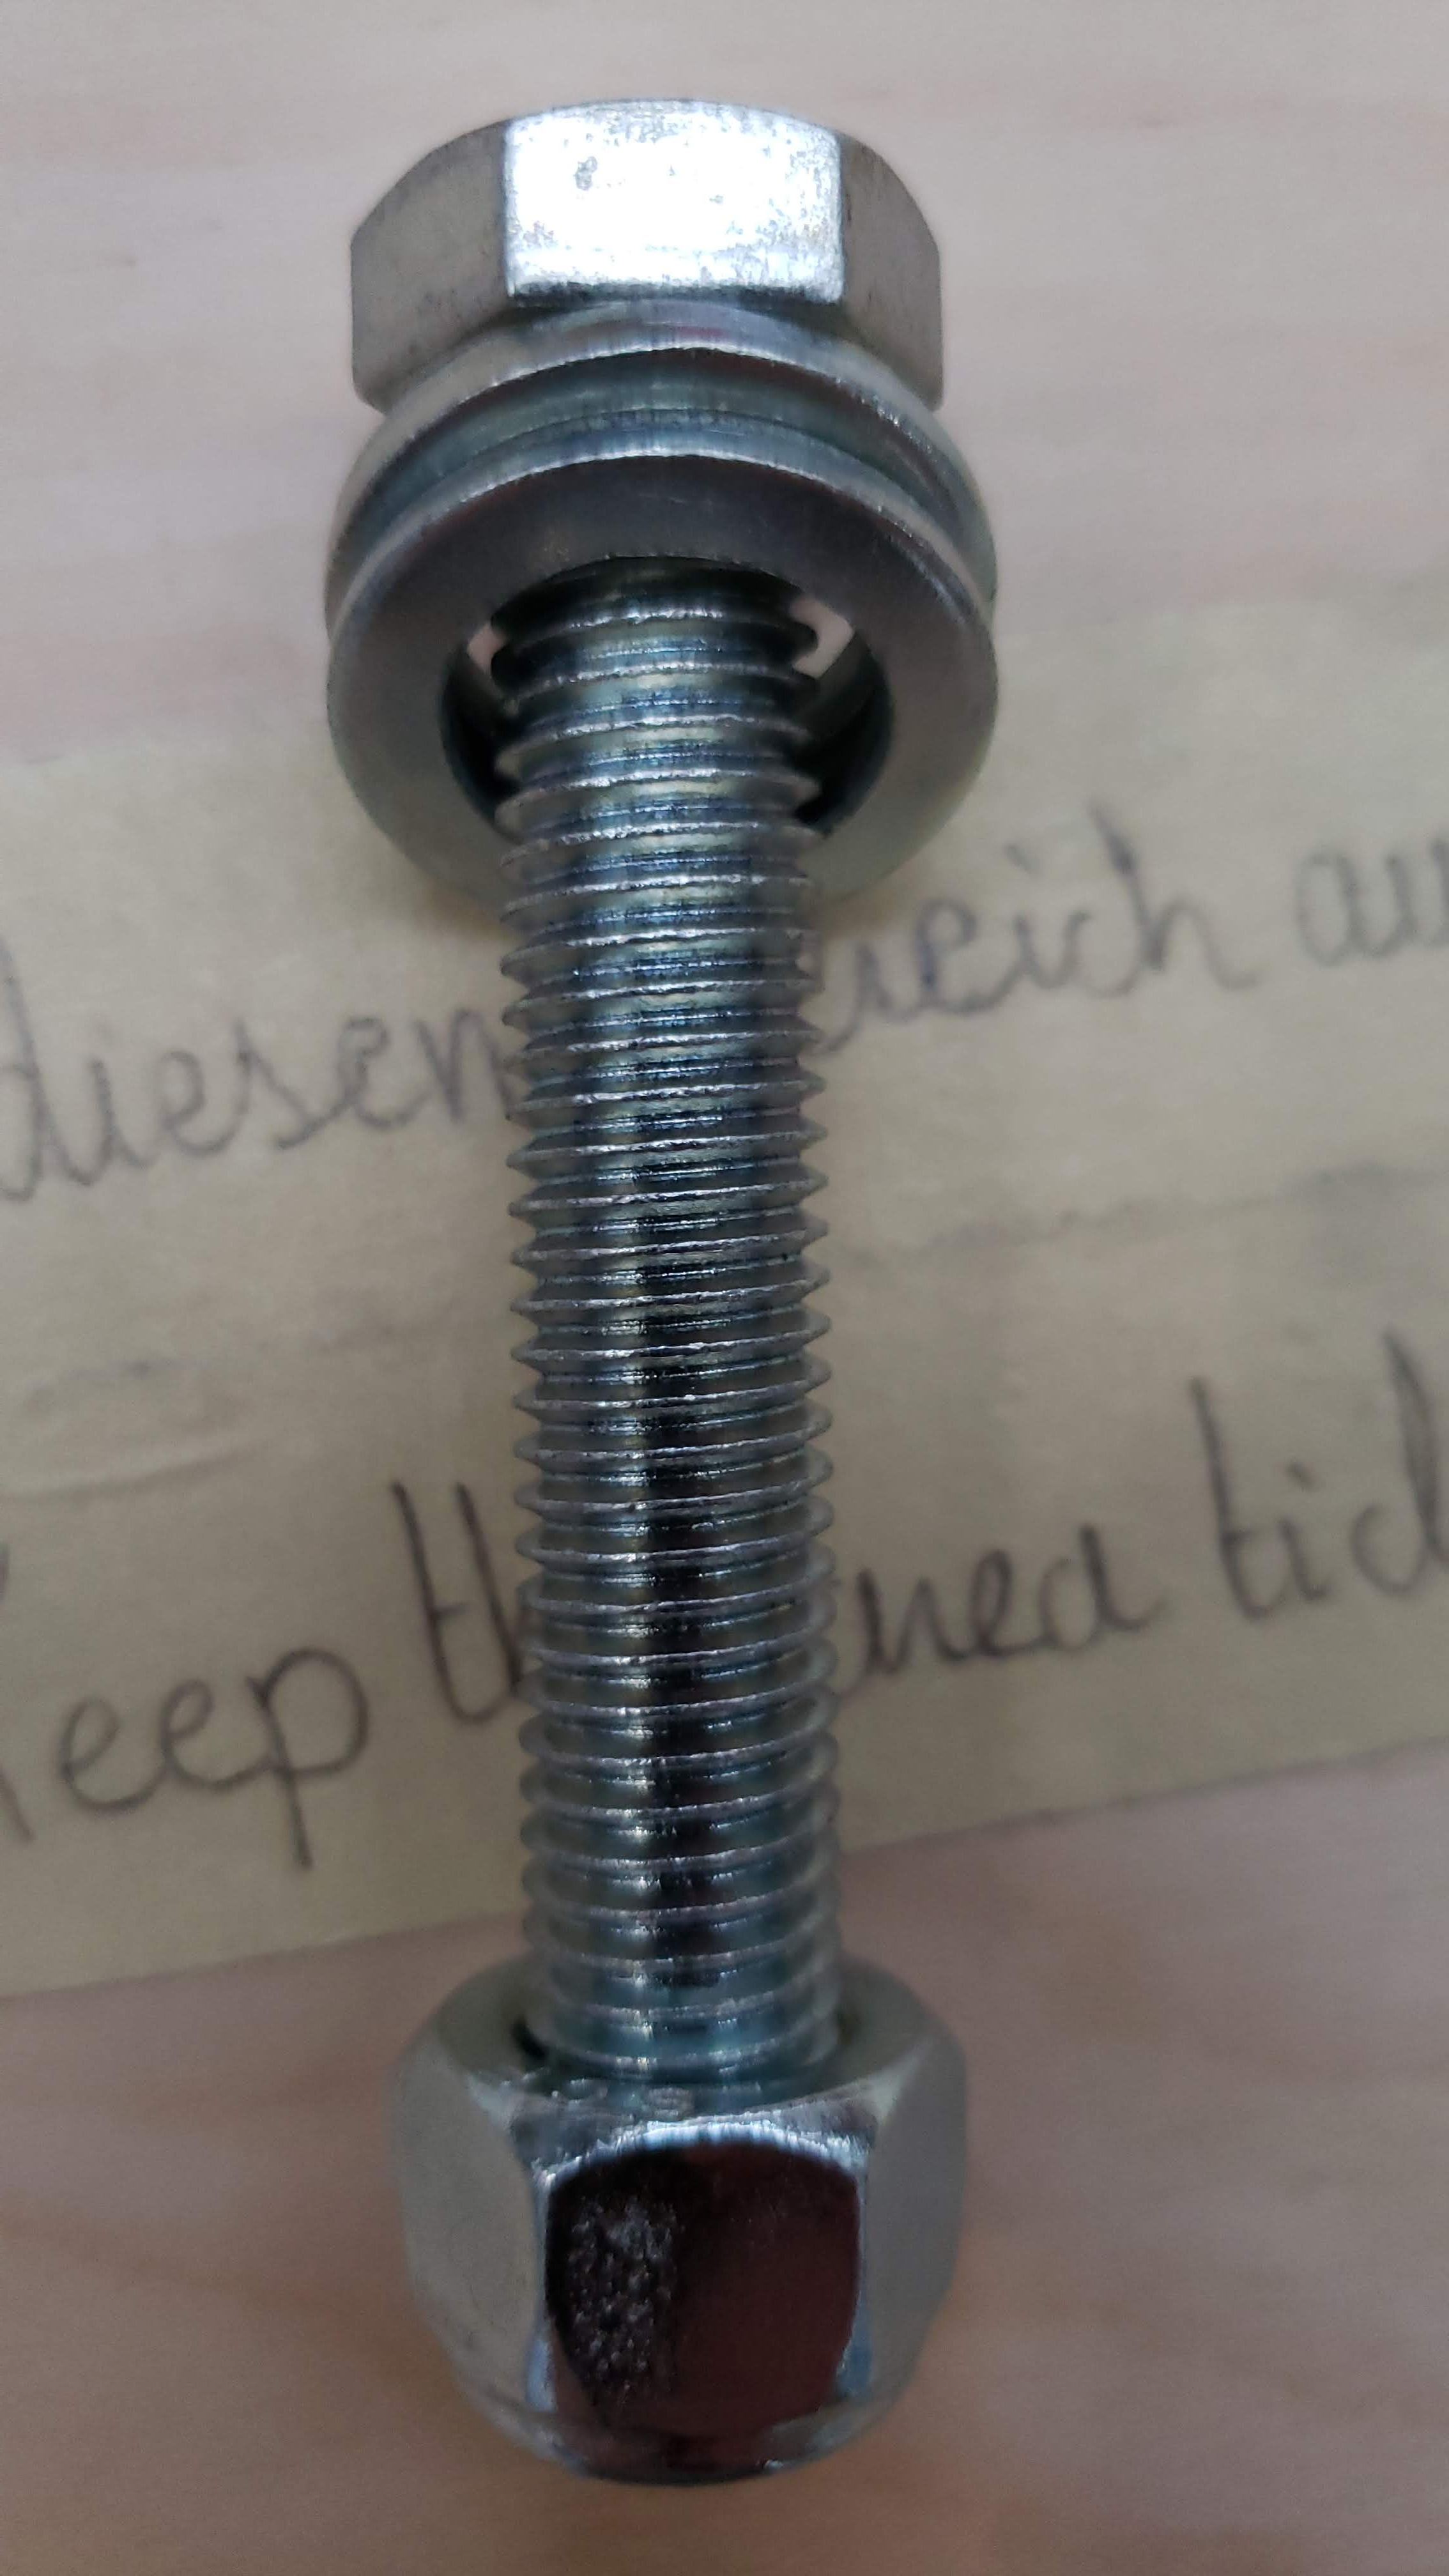FinishedAssembly: (234, 51, 1127, 2532)
